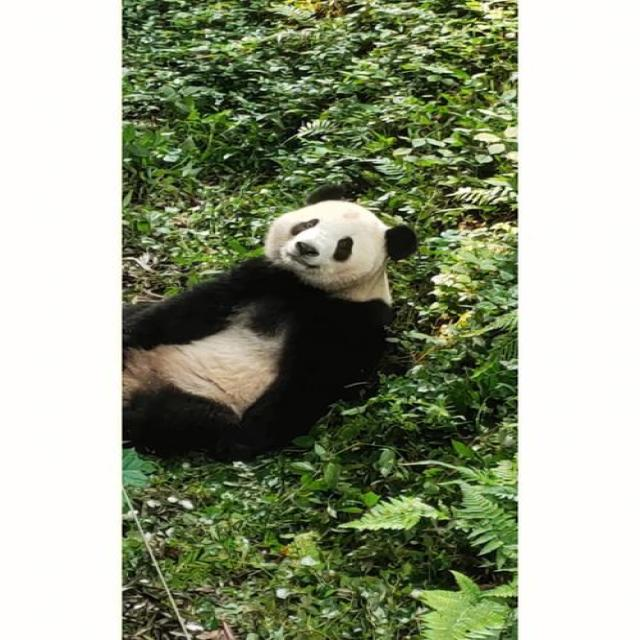panda: (122, 177, 428, 474)
